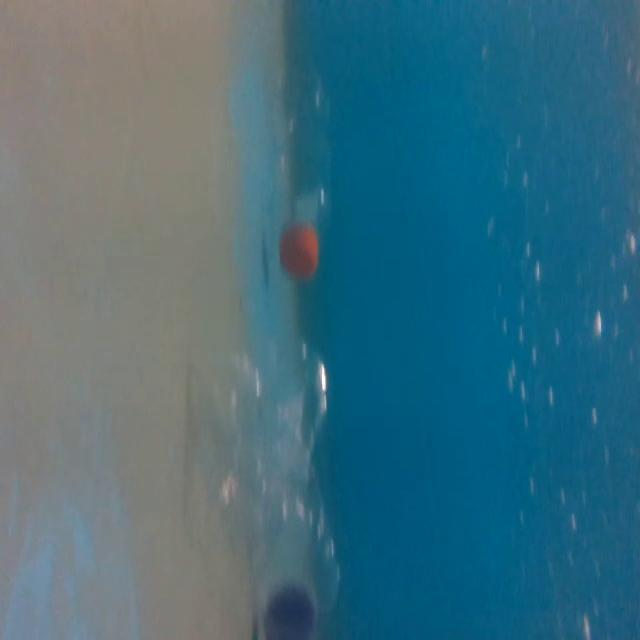plastic bottle: (205, 336, 345, 640), (253, 49, 348, 286)
